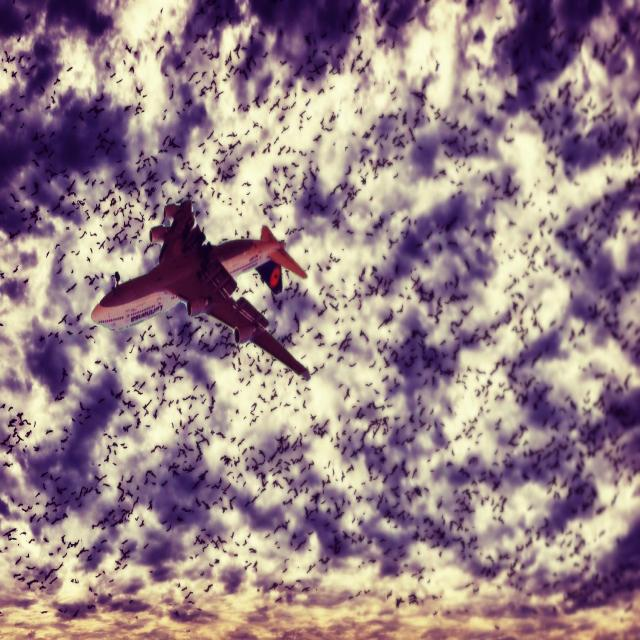airplane: (90, 198, 311, 380)
